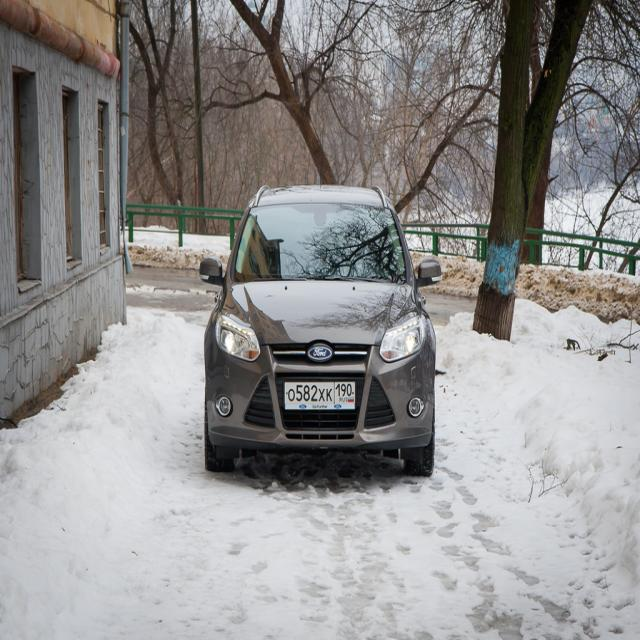car: (203, 178, 441, 487)
